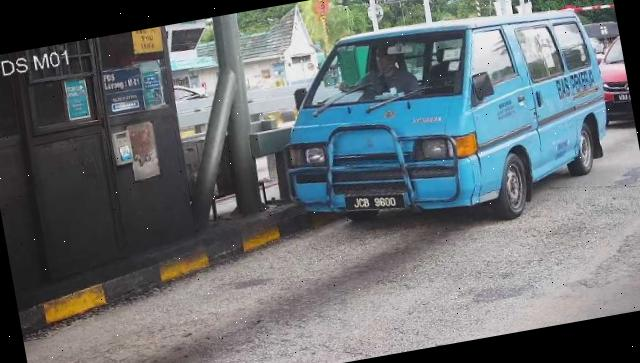License_Plate: (344, 186, 409, 222)
van: (266, 1, 624, 256)
